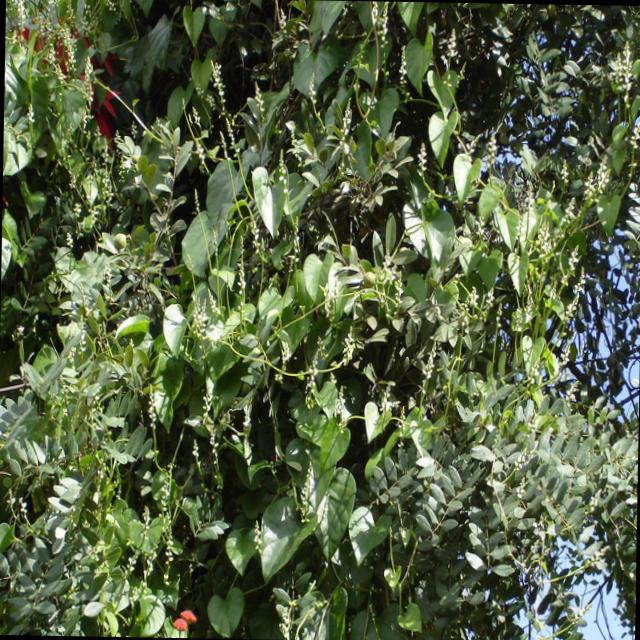Medicinal-Basale: (154, 56, 382, 402), (342, 24, 546, 299), (203, 350, 380, 568)
